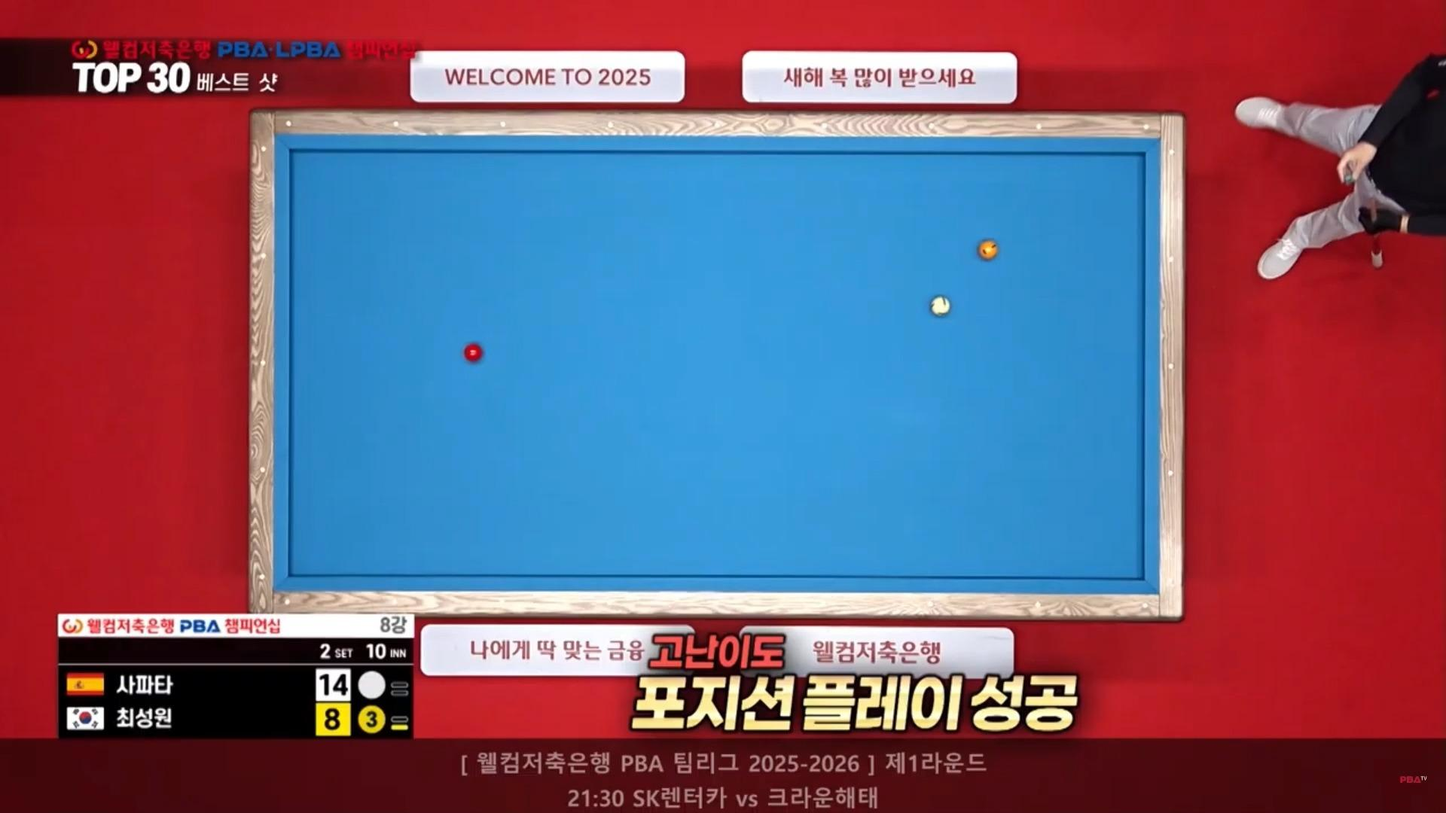Red: (463, 345, 486, 364)
White: (930, 298, 954, 317)
Yellow: (975, 239, 999, 259)
